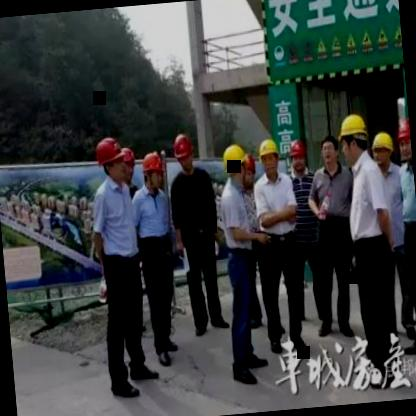head: (318, 135, 340, 173)
helmet: (337, 110, 371, 167), (92, 135, 132, 181), (219, 141, 249, 189), (168, 131, 196, 176), (257, 134, 284, 178), (369, 128, 396, 170), (142, 150, 166, 193), (393, 118, 413, 168), (288, 136, 310, 178), (120, 143, 138, 186), (242, 152, 258, 188)
